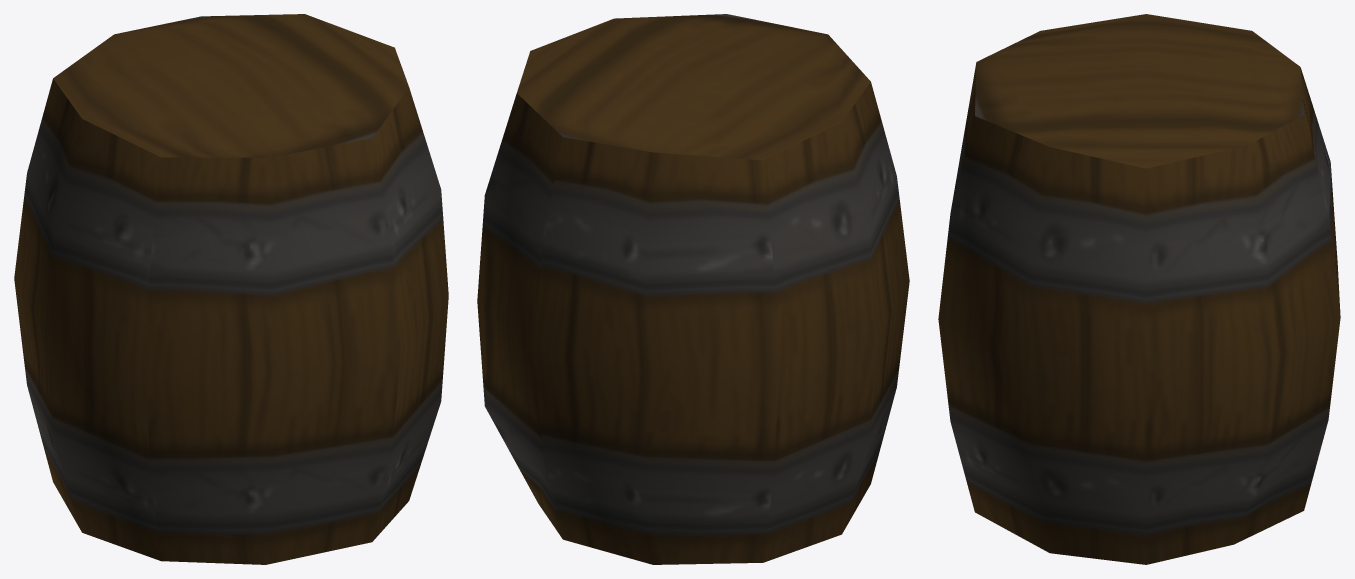
File: barrel.FBX
3 views of the same model, side by side, from view 1: azimuth 30°, elevation 25°; view 2: azimuth 150°, elevation 25°; view 3: azimuth 270°, elevation 25° (orthographic).
Parts seen in each view (by area): view 1: Cylinder001; view 2: Cylinder001; view 3: Cylinder001.
Boxes of the visible parts, <box> form: Cylinder001: <box>14,14,448,564</box>; Cylinder001: <box>477,14,909,564</box>; Cylinder001: <box>938,14,1340,564</box>.
Size of the model in its own units: 2.48 by 2.76 by 2.31.
1 material, 1 textured.
